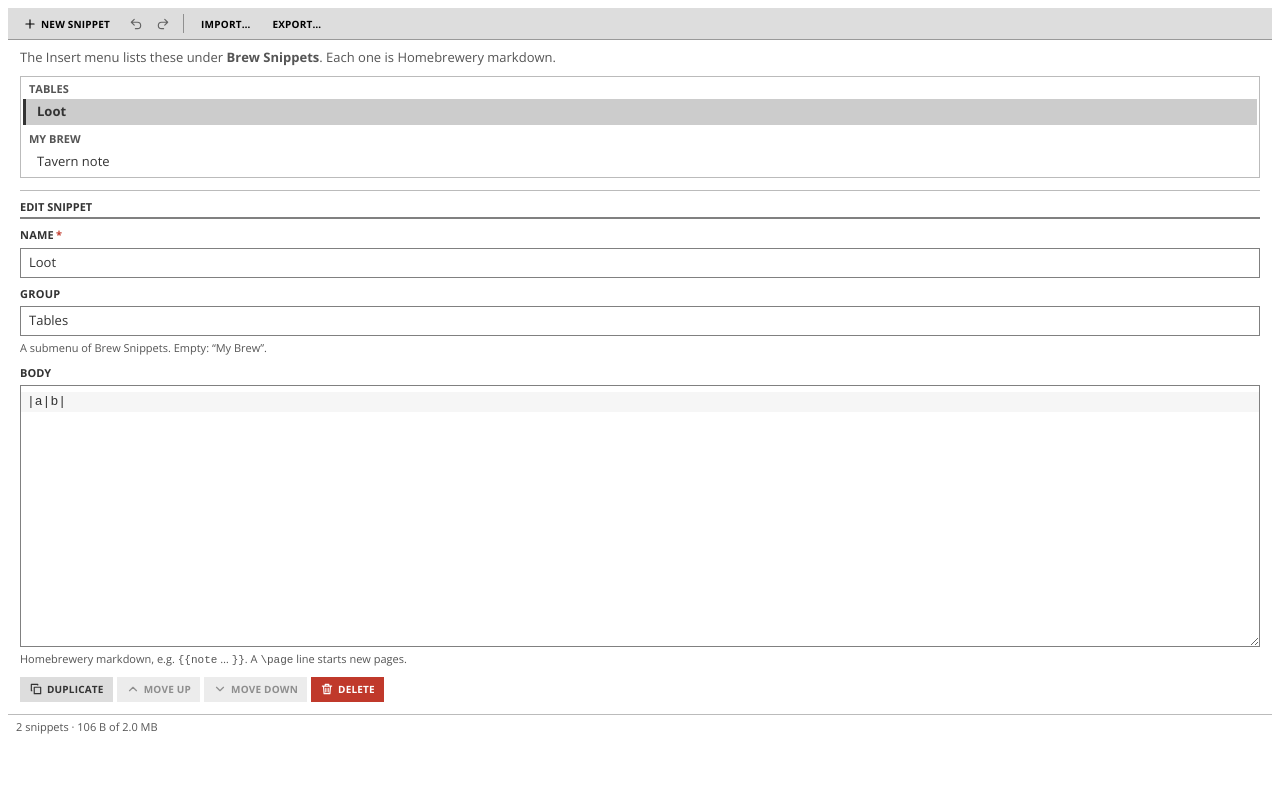
it: SnippetsEditor › Ctrl+Z in a name field undoes the snippet edit (not the input’s own history)
Type " table" into the field labelled "Name*" at (640, 262), box left=20, top=248, right=1260, bottom=278
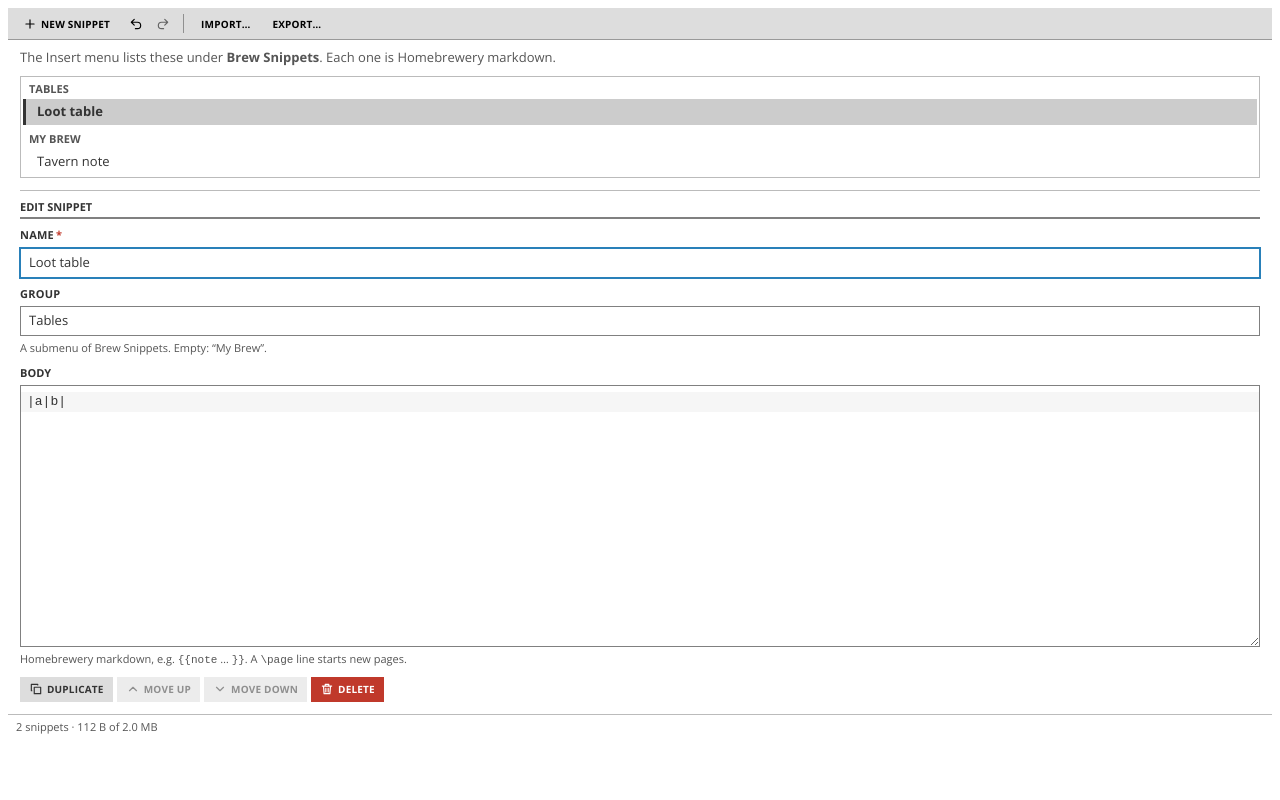
expect the field labelled "Name*" holds "Loot table": met, box left=20, top=248, right=1260, bottom=278
Type keys "{Control>}z{/Control}"
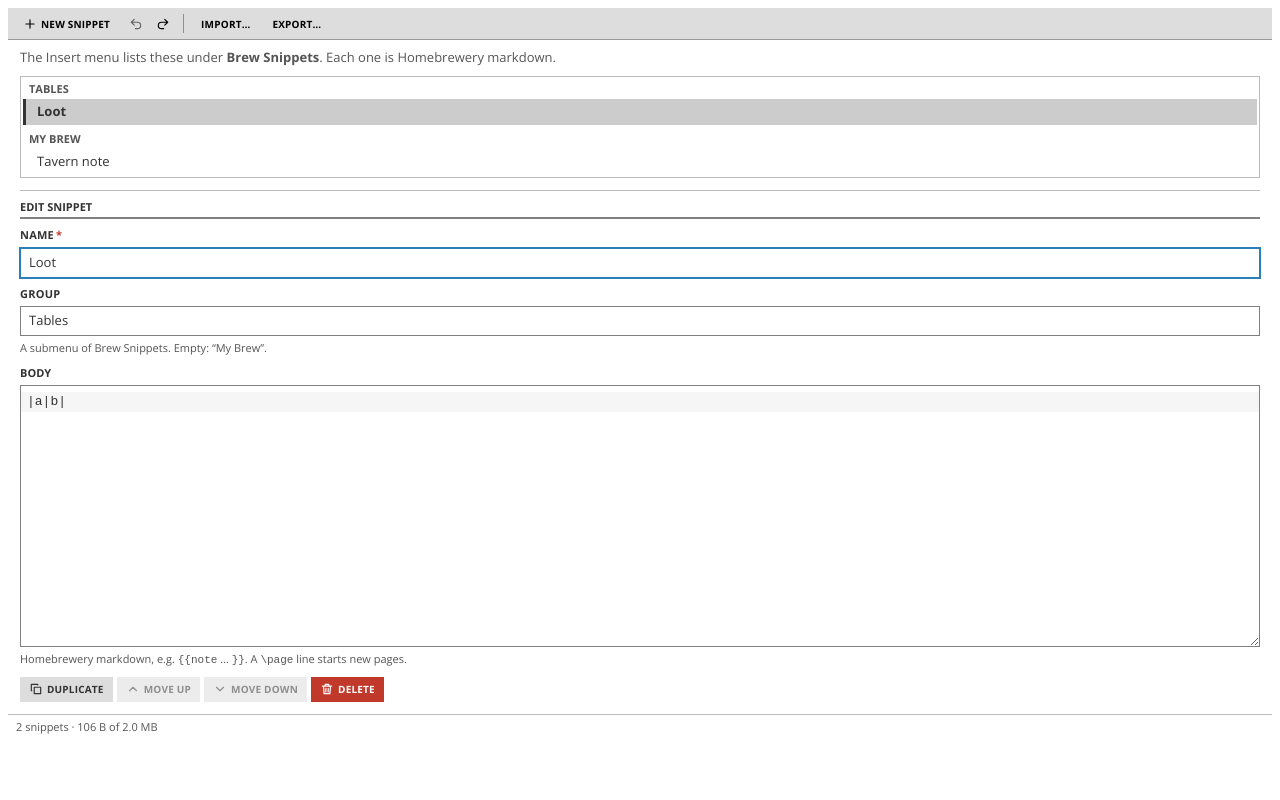
expect the field labelled "Name*" holds "Loot": met, box left=20, top=248, right=1260, bottom=278
Type keys "{Control>}{Shift>}z{/Shift}{/Control}"
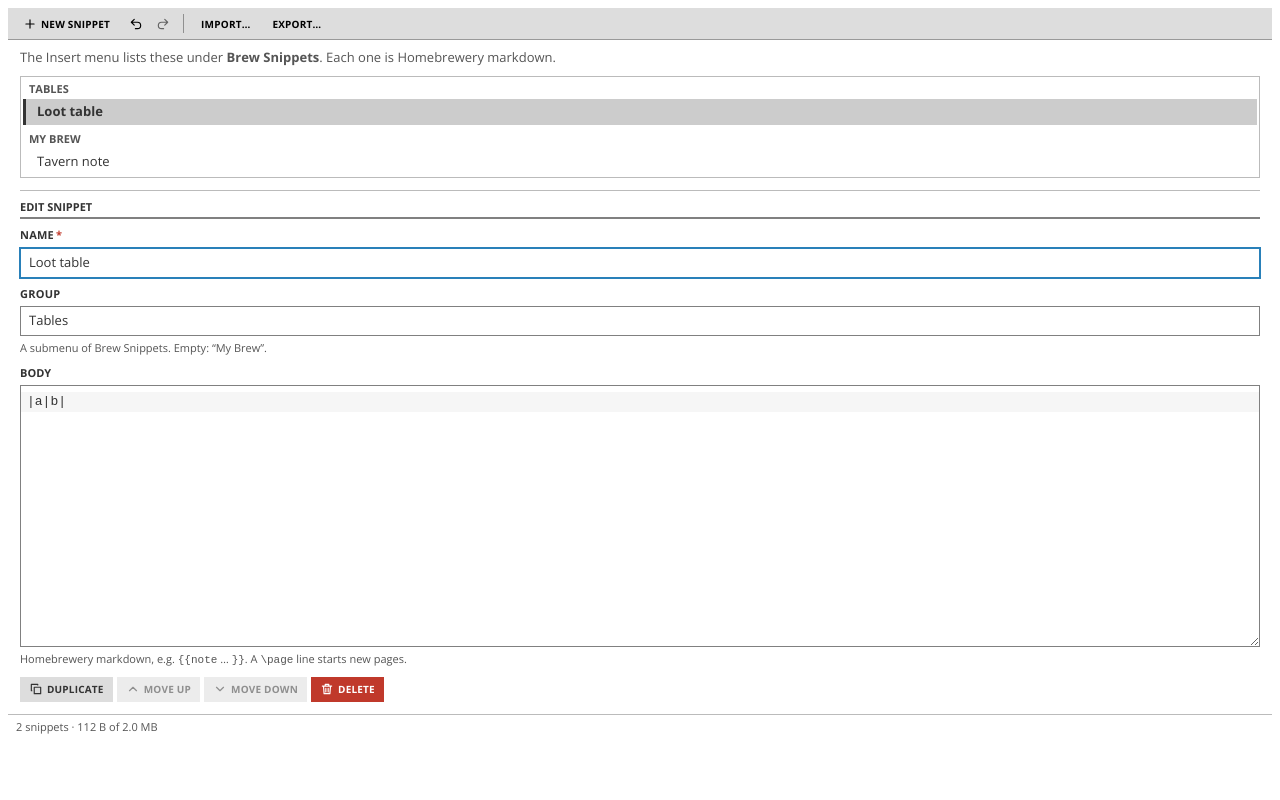
expect the field labelled "Name*" holds "Loot table": met, box left=20, top=248, right=1260, bottom=278
